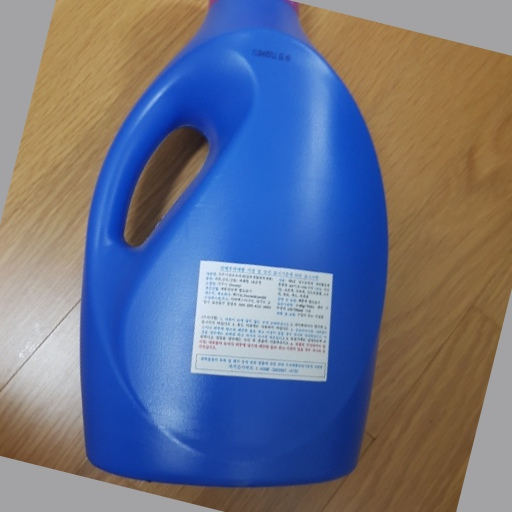Plastic_1: (84, 1, 389, 482)
